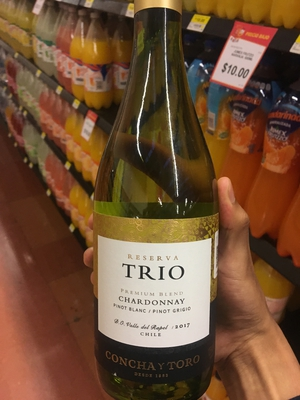trio chardonnay: (91, 22, 232, 396)
